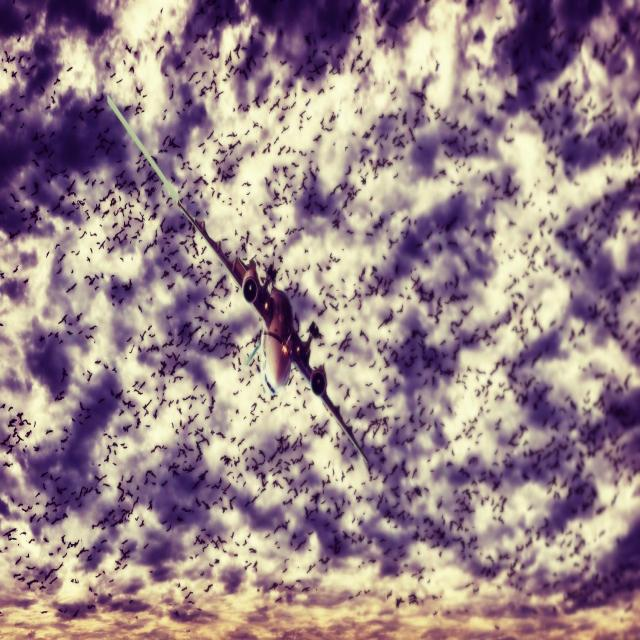airplane: (104, 91, 370, 472)
